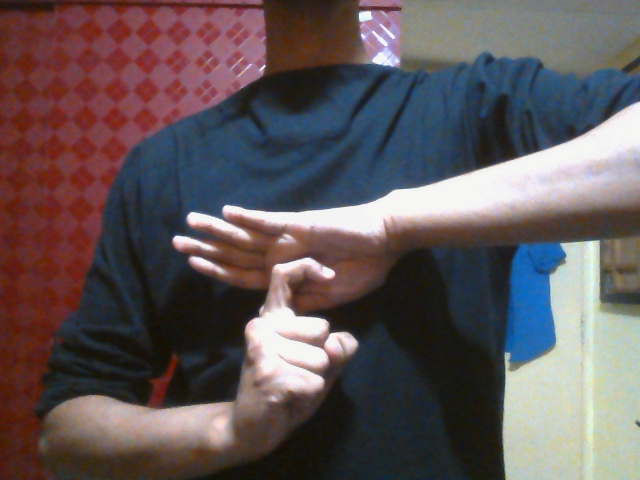R: (169, 202, 395, 450)
